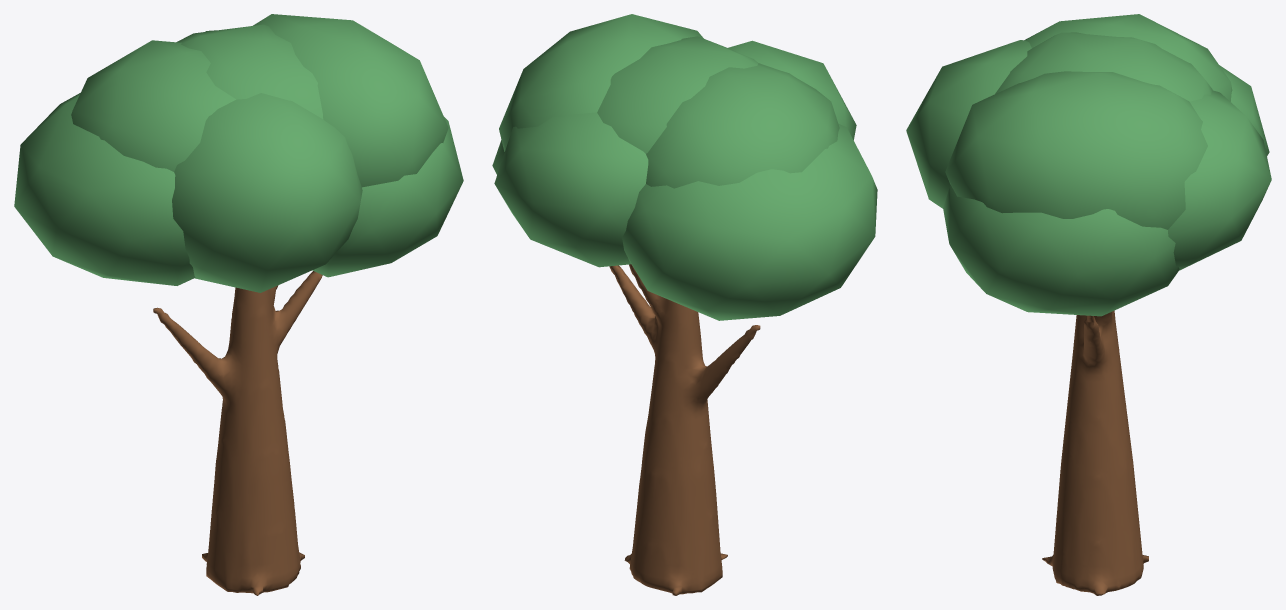
Rendered from NaturalTree_07_Open.fbx.
The picture shows the model from 3 angles, left to right: view 1: azimuth 30°, elevation 25°; view 2: azimuth 150°, elevation 25°; view 3: azimuth 270°, elevation 25°; orthographic projection. The views are drawn at different scales.
Parts seen in each view (by area): view 1: Foliage_03.006, Trunk.006, Foliage_05.006, Foliage_02.006, Foliage_01.006, Foliage_06.006, Foliage_00.006; view 2: Foliage_05.006, Trunk.006, Foliage_04.006, Foliage_01.006, Foliage_02.006, Foliage_00.006, Foliage_03.006; view 3: Foliage_02.006, Foliage_06.006, Trunk.006, Foliage_04.006, Foliage_03.006, Foliage_00.006, Foliage_01.006, Foliage_05.006.
Boxes of the visible parts, bbox=[...] form: Foliage_03.006: bbox=[172, 93, 362, 292]; Trunk.006: bbox=[153, 271, 322, 595]; Foliage_05.006: bbox=[14, 93, 195, 285]; Foliage_02.006: bbox=[253, 14, 448, 187]; Foliage_01.006: bbox=[71, 40, 235, 171]; Foliage_06.006: bbox=[312, 117, 463, 277]; Foliage_00.006: bbox=[176, 24, 323, 118]; Foliage_05.006: bbox=[622, 124, 877, 320]; Trunk.006: bbox=[609, 264, 760, 595]; Foliage_04.006: bbox=[494, 112, 648, 267]; Foliage_01.006: bbox=[646, 63, 839, 188]; Foliage_02.006: bbox=[499, 14, 703, 151]; Foliage_00.006: bbox=[597, 36, 758, 153]; Foliage_03.006: bbox=[728, 40, 856, 140]; Foliage_02.006: bbox=[945, 71, 1207, 229]; Foliage_06.006: bbox=[943, 185, 1179, 316]; Trunk.006: bbox=[1042, 310, 1148, 595]; Foliage_04.006: bbox=[1168, 90, 1271, 270]; Foliage_03.006: bbox=[906, 40, 1031, 208]; Foliage_00.006: bbox=[995, 32, 1212, 101]; Foliage_01.006: bbox=[1024, 14, 1232, 101]; Foliage_05.006: bbox=[1219, 65, 1269, 155].
Bounding box in the file's own units: 2.18 × 2.94 × 1.85.
